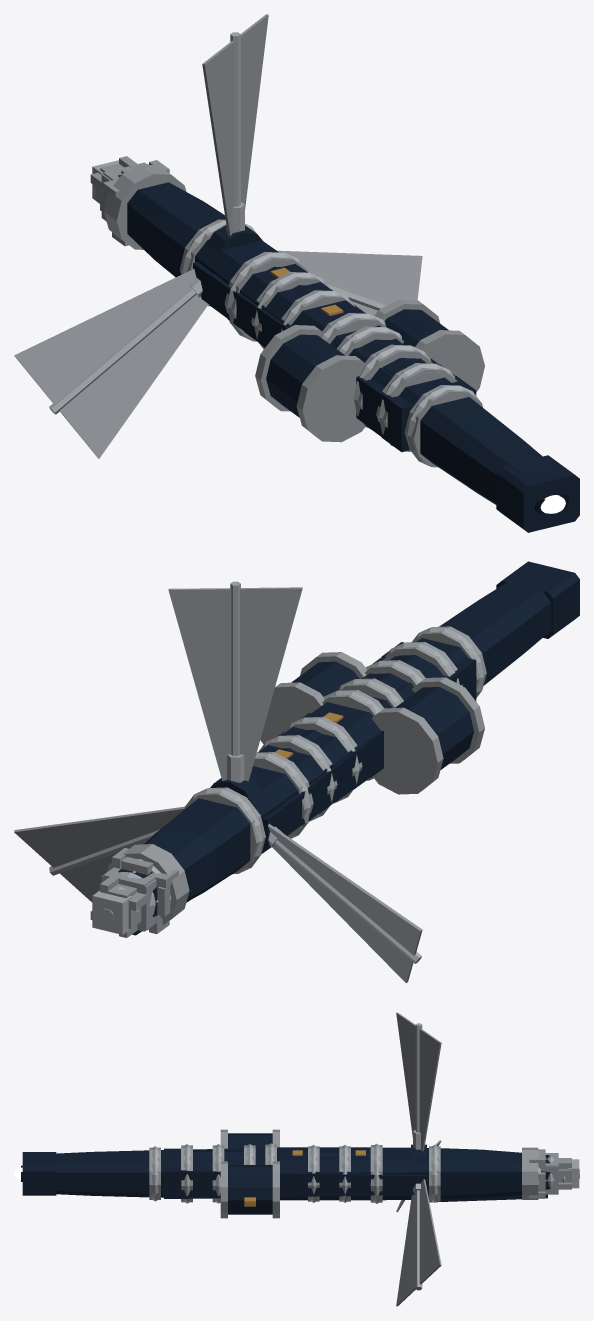
3 views of the same model, one above another, from view 1: azimuth 30°, elevation 25°; view 2: azimuth 150°, elevation 25°; view 3: azimuth 270°, elevation 25° (orthographic). The views are drawn at different scales.
Visible parts, largest first — view 1: RIMWARD_HULL; view 2: RIMWARD_HULL; view 3: RIMWARD_HULL.
Boxes of the visible parts, <box> form: RIMWARD_HULL: <box>14,14,579,532</box>; RIMWARD_HULL: <box>14,561,579,983</box>; RIMWARD_HULL: <box>21,1012,579,1306</box>.
Size of the model in its own units: 4.03 by 3.54 by 7.73.
